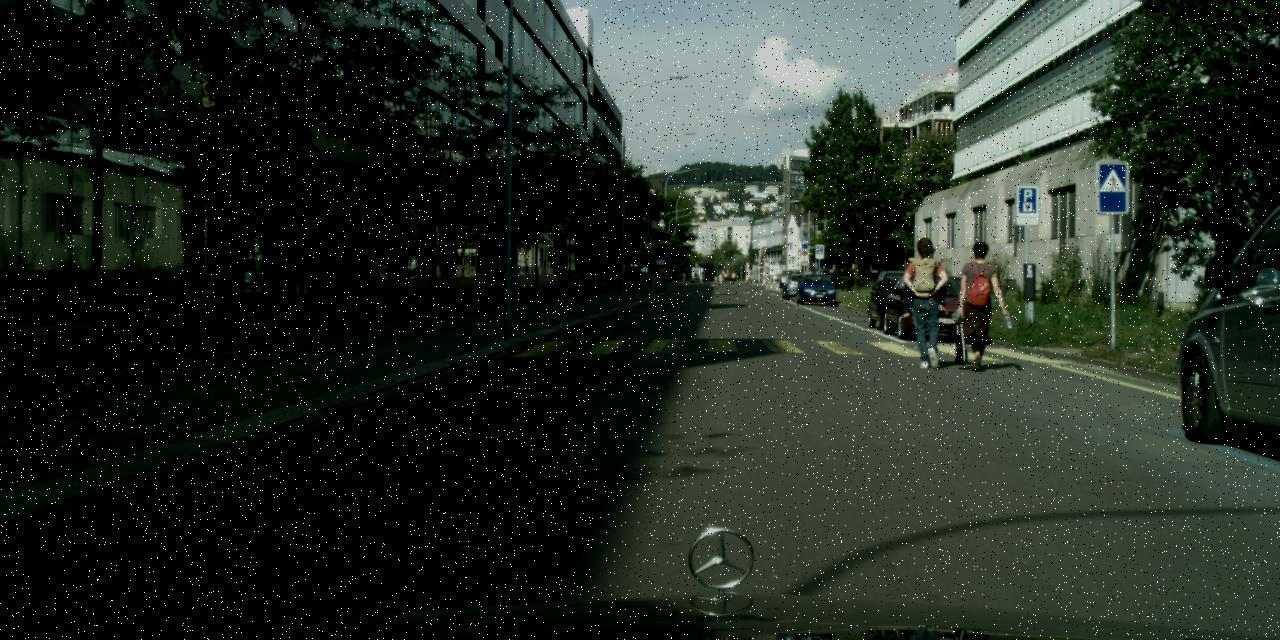ped: (901, 236, 953, 364), (953, 241, 1005, 367)
